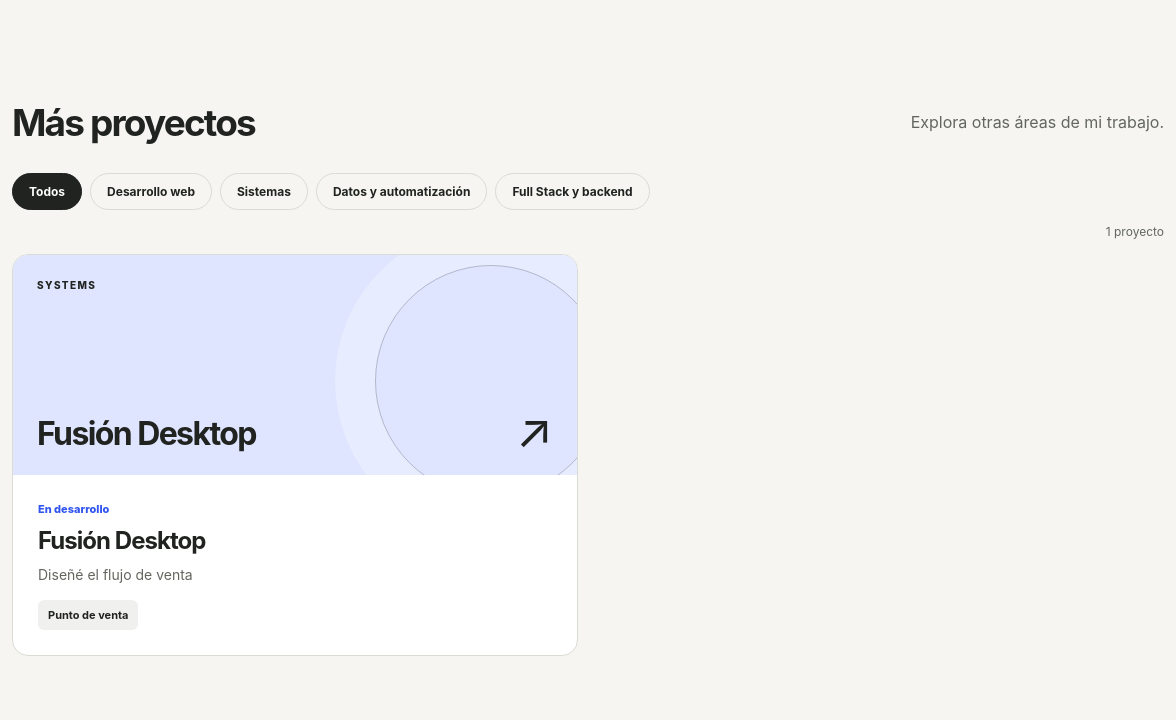
Scenario: galería de proyectos › explica una categoría sin resultados
The width and height of the screenshot is (1176, 720).
What coordinates should you click on to do the following:
click the button "Datos y automatización"
I would click on:
 (402, 192)
Its box is [316,173,487,210].
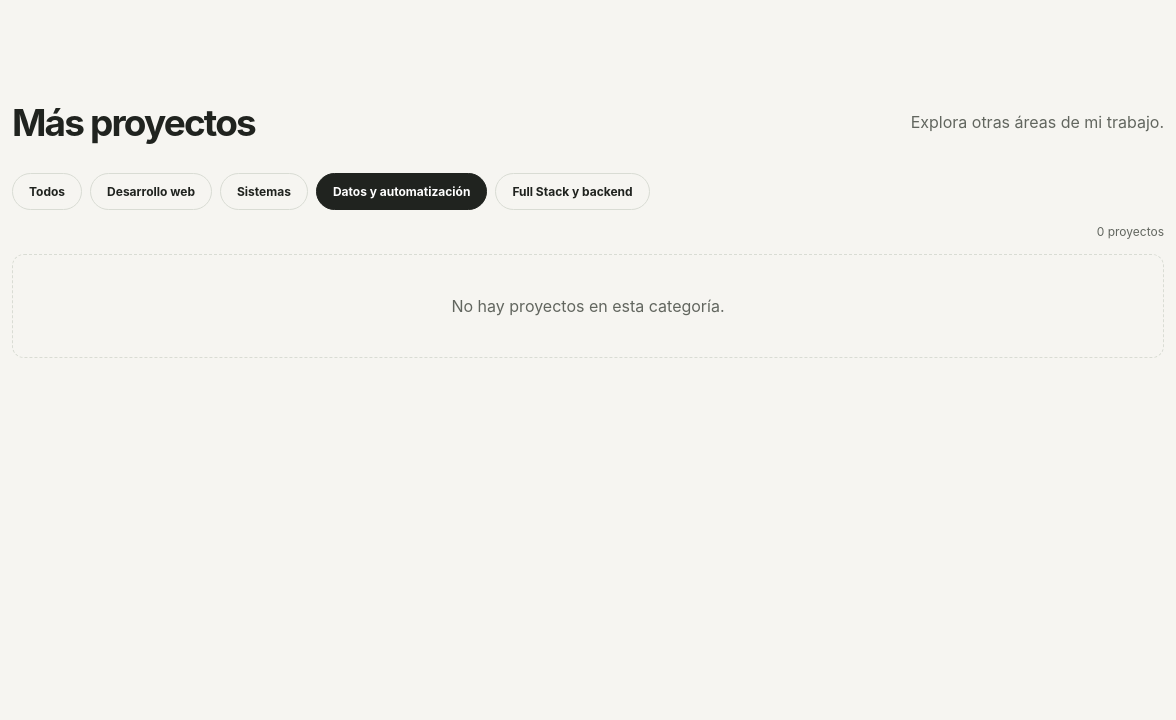
Check: the text "No hay proyectos en esta categoría." is shown, box [12,254,1164,358]
